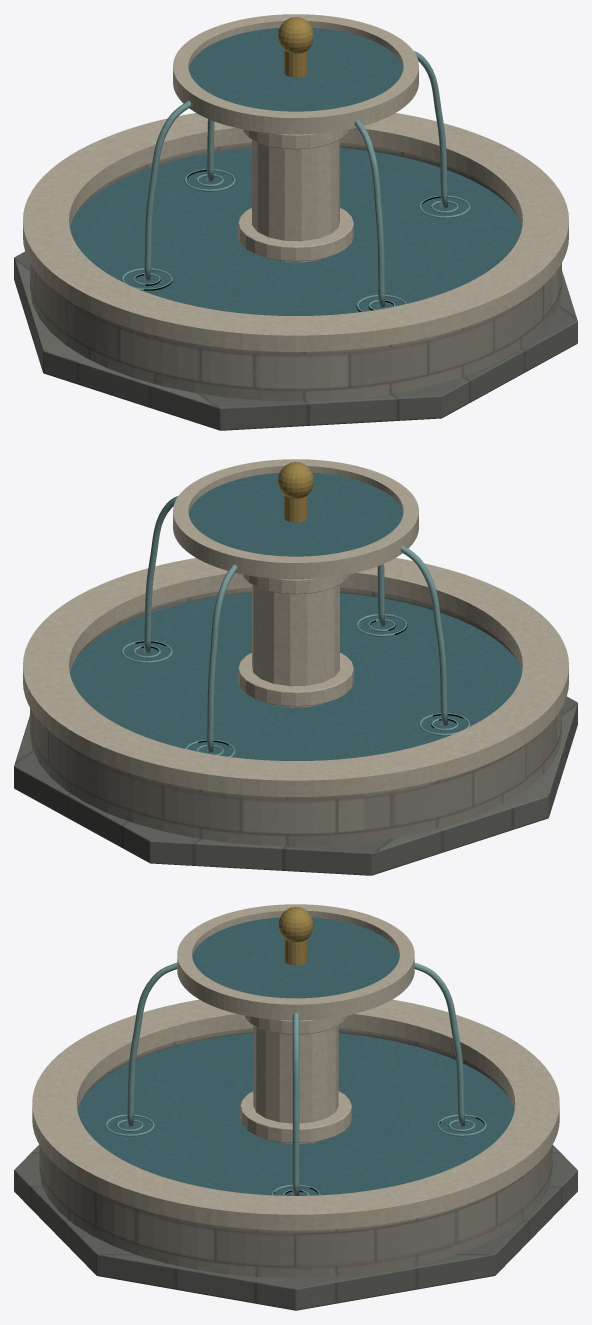
File: Fountain.fbx
3 views of the same model, one above another, from view 1: azimuth 30°, elevation 25°; view 2: azimuth 150°, elevation 25°; view 3: azimuth 270°, elevation 25° (orthographic). The views are drawn at different scales.
Parts seen in each view (by area): view 1: Fountain.001; view 2: Fountain.001; view 3: Fountain.001.
Part boxes in pixels (<box>): Fountain.001: <box>14,14,577,430</box>; Fountain.001: <box>14,459,577,875</box>; Fountain.001: <box>14,904,577,1310</box>.
Size of the model in its own units: 6.46 by 3.58 by 6.46.
